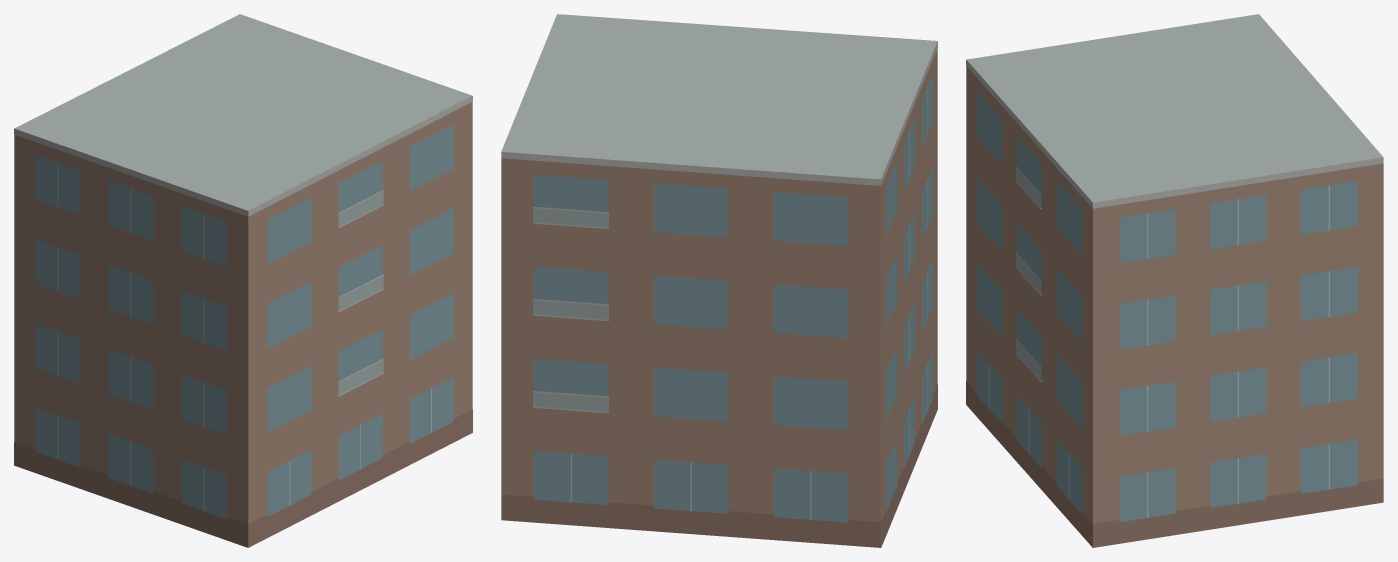
Rendered from survey-upis-32842497.glb.
3 renders of one model, left to right at view 1: azimuth 30°, elevation 25°; view 2: azimuth 150°, elevation 25°; view 3: azimuth 270°, elevation 25°, orthographic. The views are drawn at different scales.
Visible parts, largest first — view 1: survey-upis-32842497.tmp; view 2: survey-upis-32842497.tmp; view 3: survey-upis-32842497.tmp.
Part boxes in pixels (left/top/right/bottom): survey-upis-32842497.tmp: left=14, top=14, right=472, bottom=547; survey-upis-32842497.tmp: left=501, top=14, right=937, bottom=547; survey-upis-32842497.tmp: left=966, top=14, right=1383, bottom=547.
Bounding box in the file's own units: 16.31 × 13.9 × 15.25.
